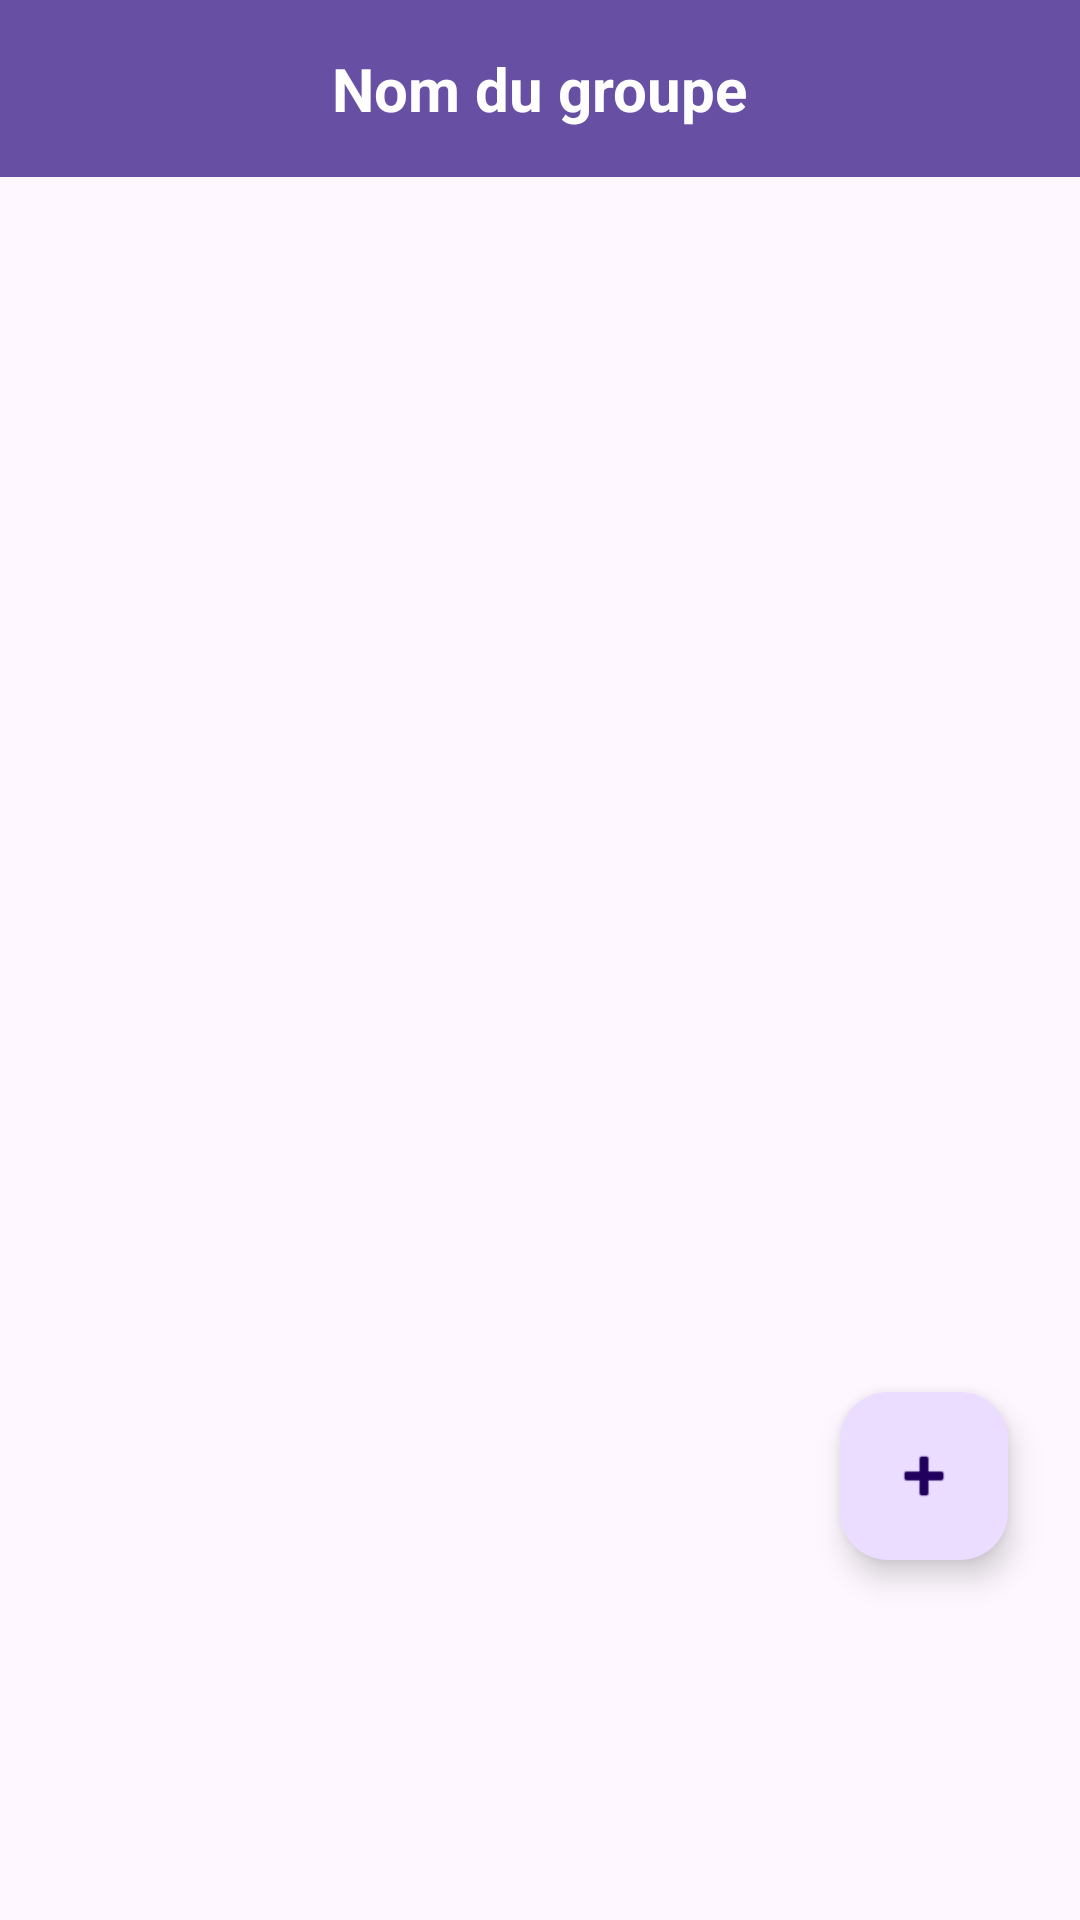

Screen size 1080px×1920px. Icon name, then its center in pixels as (x,y):
Ajouter un produit: (924,1476)
